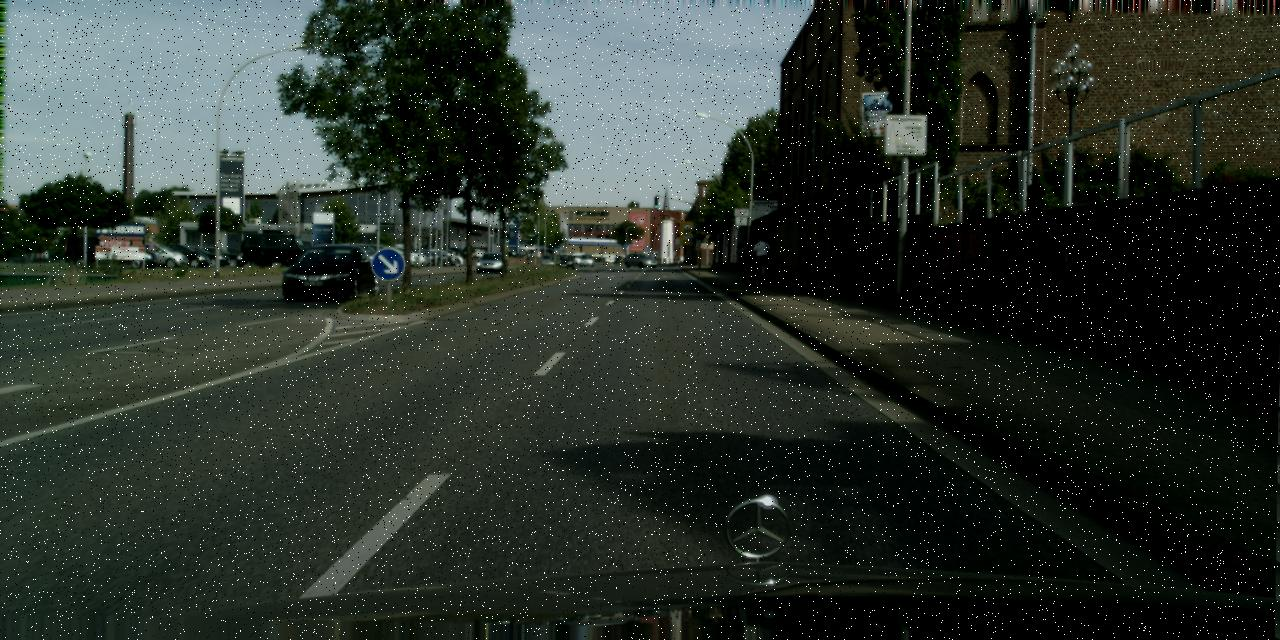ped: (735, 236, 753, 280), (751, 236, 769, 278)
